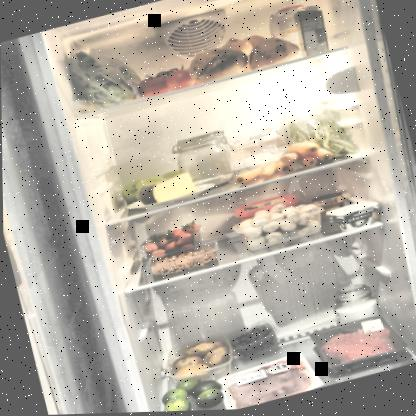apple: (119, 169, 192, 205)
blueberries: (226, 321, 280, 363)
butter: (232, 191, 303, 226)
carrot: (273, 138, 334, 179), (232, 162, 278, 190)
cheese: (135, 170, 201, 208)
corn: (311, 192, 346, 224)
green_beans: (273, 95, 361, 175)
ground_beef: (316, 320, 397, 372)
heavy_cream: (294, 4, 332, 60)
lime: (154, 369, 229, 412)
mushrooms: (232, 194, 328, 256)
onion: (216, 31, 270, 64)
potato: (166, 334, 236, 388)
shrimp: (149, 245, 221, 282)
spinach: (55, 27, 148, 122)
strawberries: (138, 221, 210, 262)
sweet_potato: (190, 29, 302, 89)
tomato: (132, 60, 206, 101)
